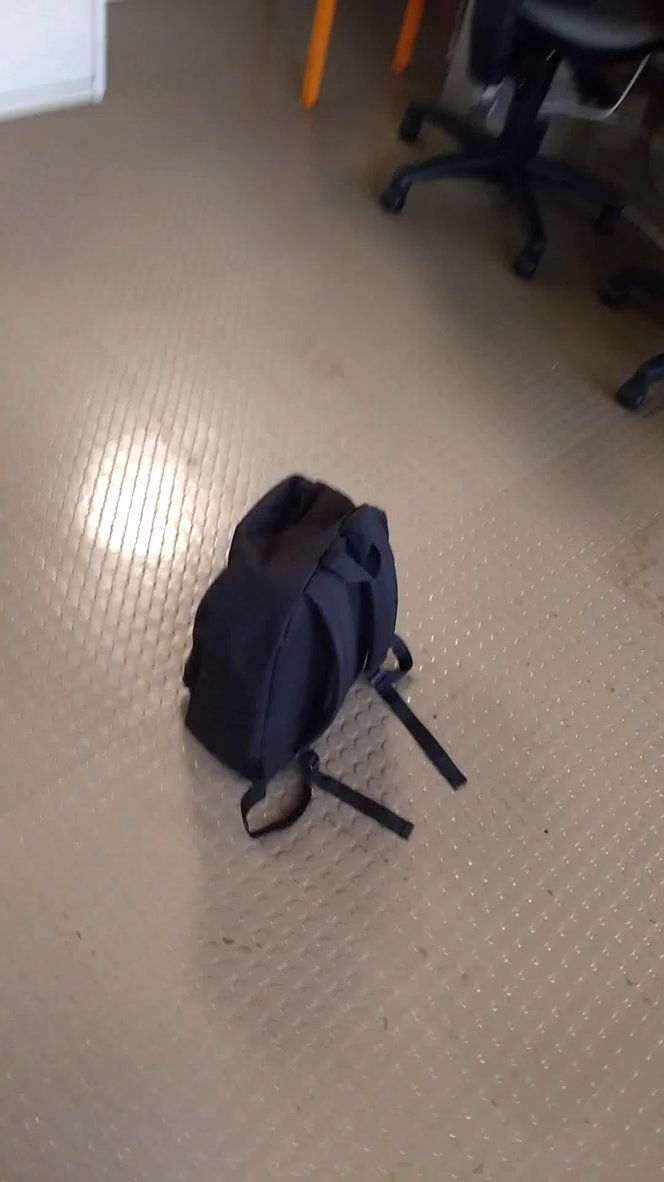bag: (168, 459, 489, 856)
